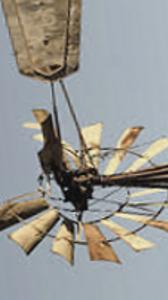faulty: (10, 97, 127, 263)
